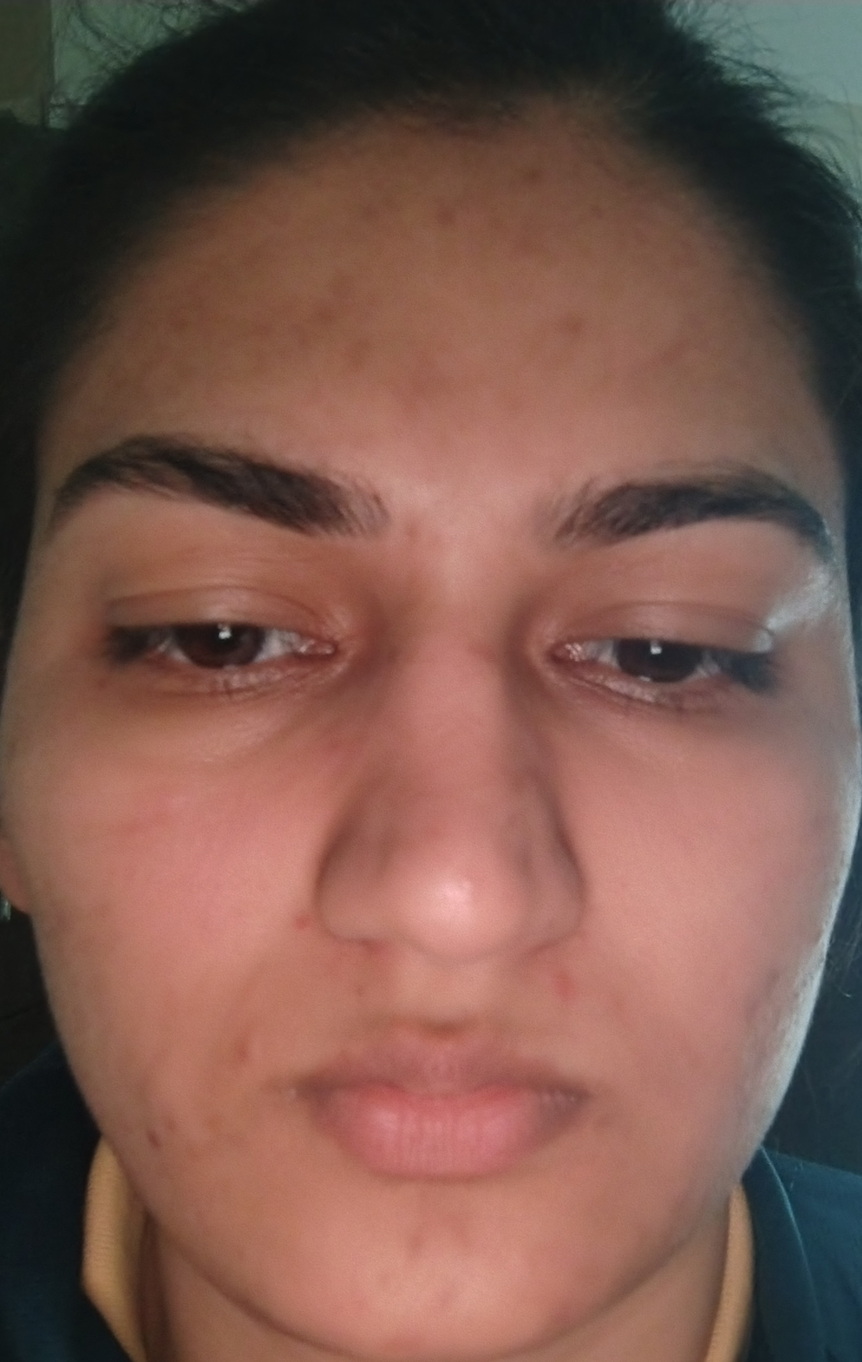papule: (223, 1005, 291, 1088), (273, 903, 356, 964), (538, 297, 605, 371), (544, 946, 605, 1025)
